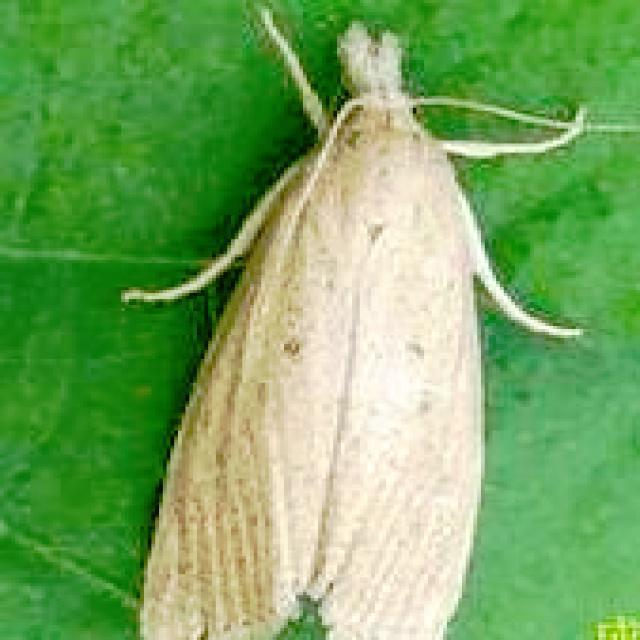stem-borer: (135, 13, 547, 640)
